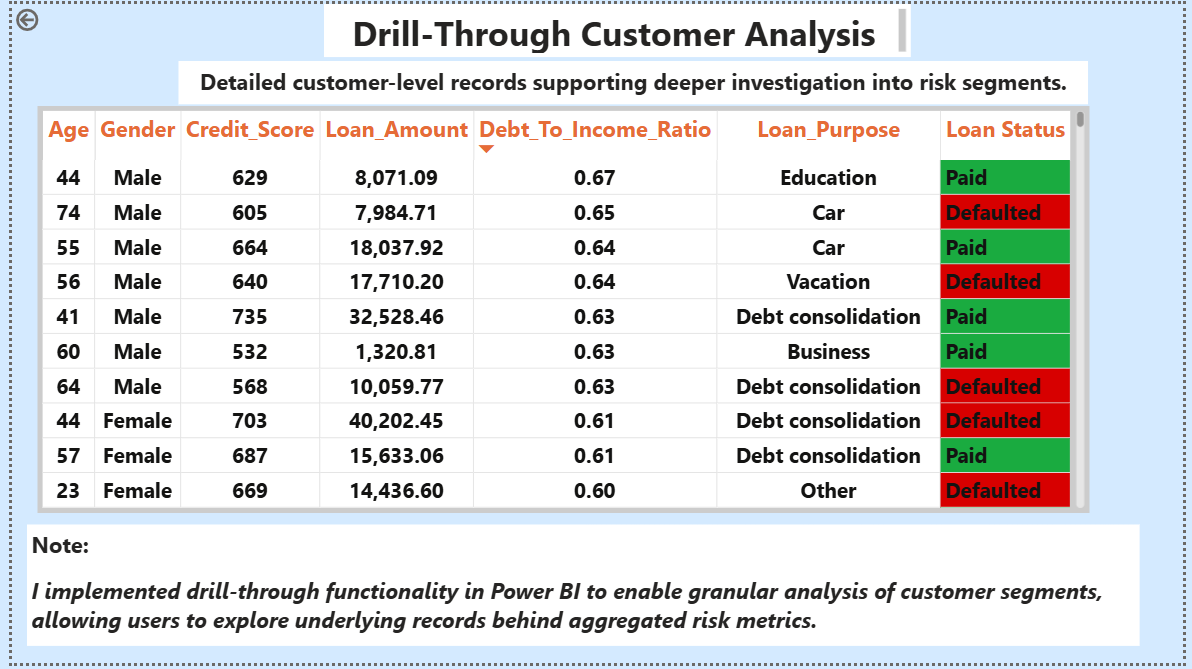

The page's visual inventory and layout, read from the dashboard file:
{"tool":"powerbi","page":{"name":"Customer Risk Detail","canvas":[1280,720],"ordinal":3},"visuals":[{"type":"tableEx","fields":{"Values":["loan_data.Age","loan_data.Gender","loan_data.Credit_Score","loan_data.Loan_amount","loan_data.Debt_To_Income_Ratio","loan_data.Loan_Purpose","loan_data.Loan Status"]},"box":[27.9,111.5,1149.2,444.3],"z":0},{"type":"actionButton","box":[0,0,33.3,35],"z":1000},{"type":"textbox","box":[17.1,568.6,1215.7,132.9],"z":2000},{"type":"textbox","box":[341.7,0,641.2,58.3],"z":3000},{"type":"textbox","box":[181.4,62.9,994.3,47.1],"z":4000}]}

Visuals, with their boxes in screenshot pixels (x1, y1, x2, y2), scaled from the page's 1280x720 canvas onto the 1192x669 screenshot:
tableEx - loan_data.Age x loan_data.Gender: <bbox>26, 104, 1096, 516</bbox>
actionButton: <bbox>0, 0, 31, 33</bbox>
textbox: <bbox>16, 528, 1148, 652</bbox>
textbox: <bbox>318, 0, 915, 54</bbox>
textbox: <bbox>169, 58, 1095, 102</bbox>
